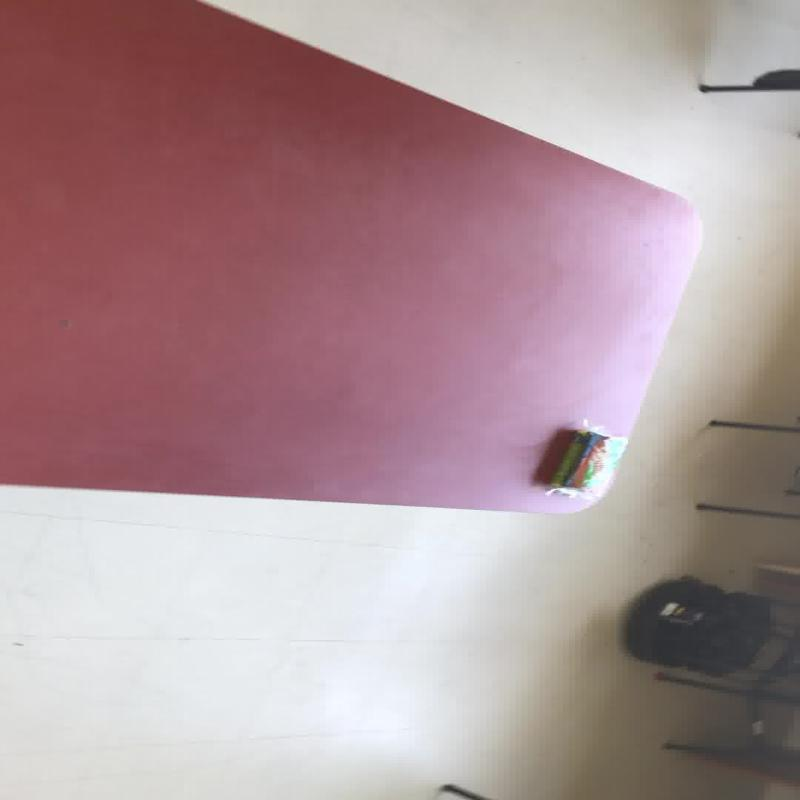sponge: (545, 423, 625, 495), (546, 426, 607, 489)
